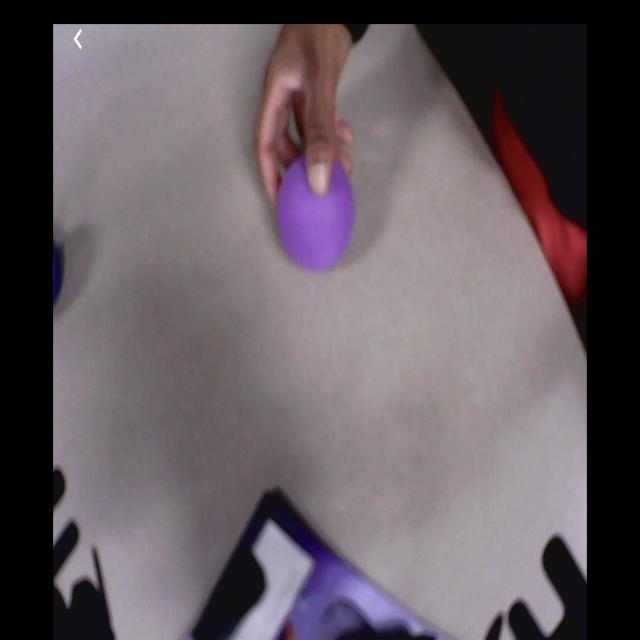ball: (276, 157, 355, 270), (53, 235, 64, 304)
